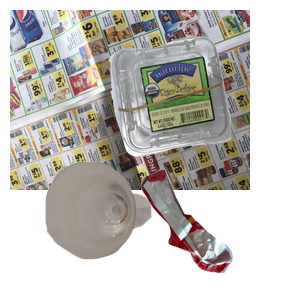glass: (43, 159, 187, 300)
paper: (10, 10, 250, 190)
plastic: (106, 34, 300, 183)
trash: (139, 167, 300, 300)
